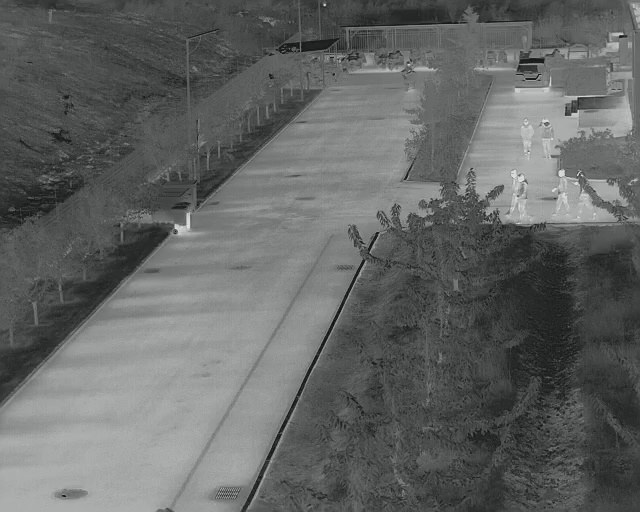NonMotorVehicle: (401, 61, 416, 92)
person: (508, 169, 530, 218), (552, 169, 570, 218), (540, 116, 555, 157), (519, 118, 535, 156)
vehicle: (513, 56, 551, 95)
